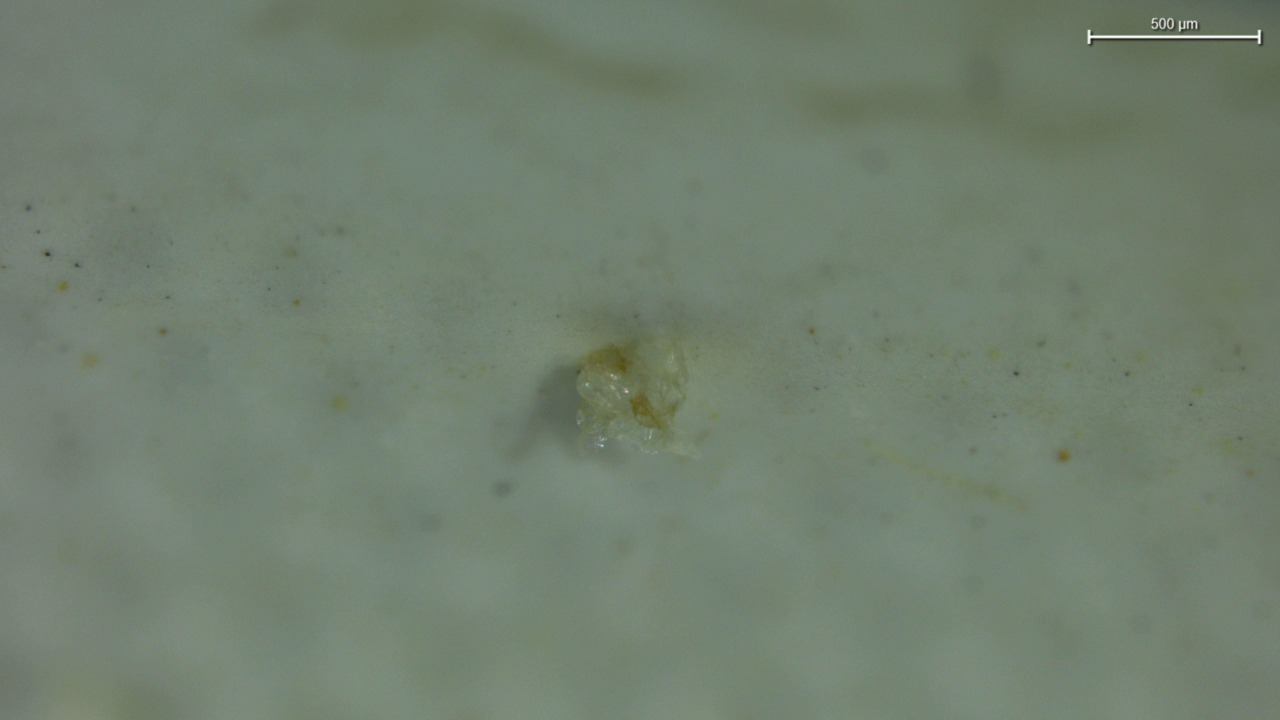microplastic_fragment: (576, 339, 695, 455)
